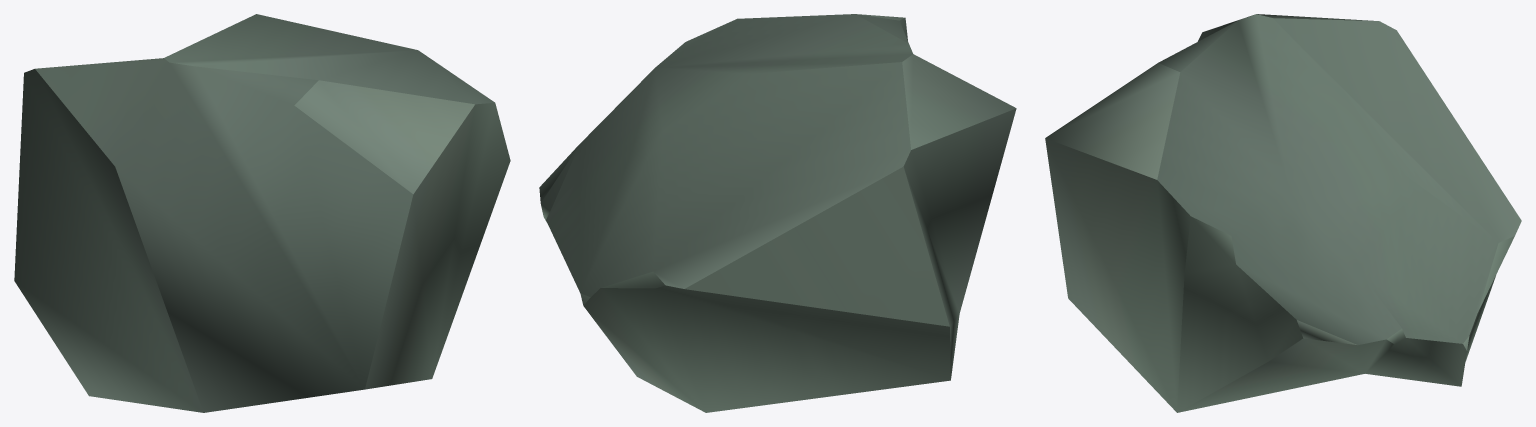
File: Meteor.fbx
3 views of the same model, side by side, from view 1: azimuth 30°, elevation 25°; view 2: azimuth 150°, elevation 25°; view 3: azimuth 270°, elevation 25° (orthographic). The views are drawn at different scales.
Parts seen in each view (by area): view 1: rocky; view 2: rocky; view 3: rocky.
Part boxes in pixels (x1,y1,x2,y2): rocky: (14,14,510,412); rocky: (539,14,1016,412); rocky: (1045,14,1521,412).
Size of the model in its own units: 10.23 by 7.34 by 10.31.
